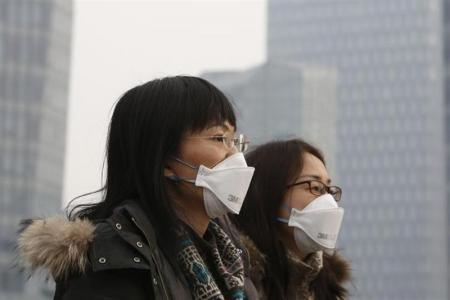OK: (266, 169, 348, 251)
WRONG: (163, 116, 257, 210)
